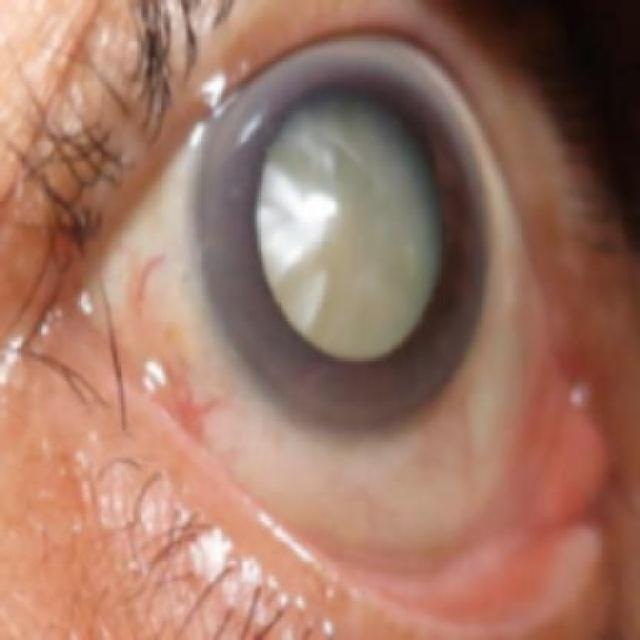Cataract: (193, 54, 487, 423)
